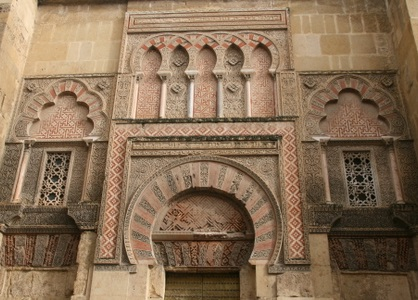arco-herradura: (143, 181, 262, 275), (135, 36, 192, 84), (221, 35, 278, 81), (165, 38, 221, 83)
arco-lobulado: (311, 81, 400, 146), (26, 88, 98, 145)
dintel-adovelado: (151, 236, 253, 273), (327, 230, 418, 269), (1, 230, 83, 270)
